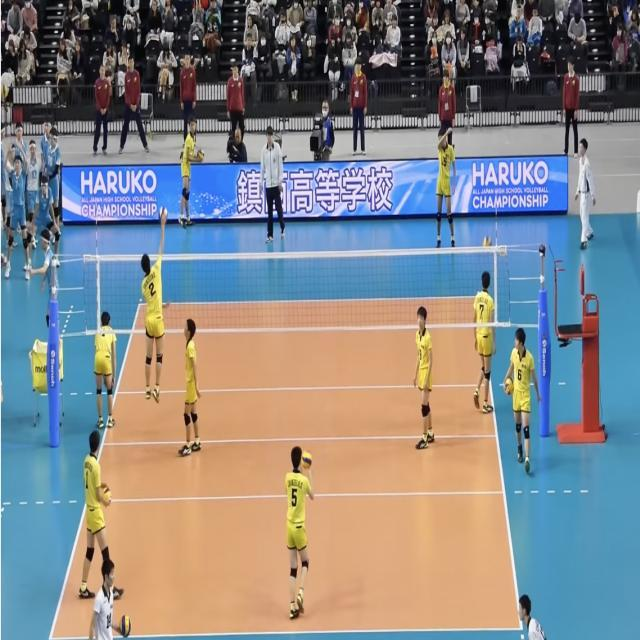spike: (139, 202, 171, 406)
